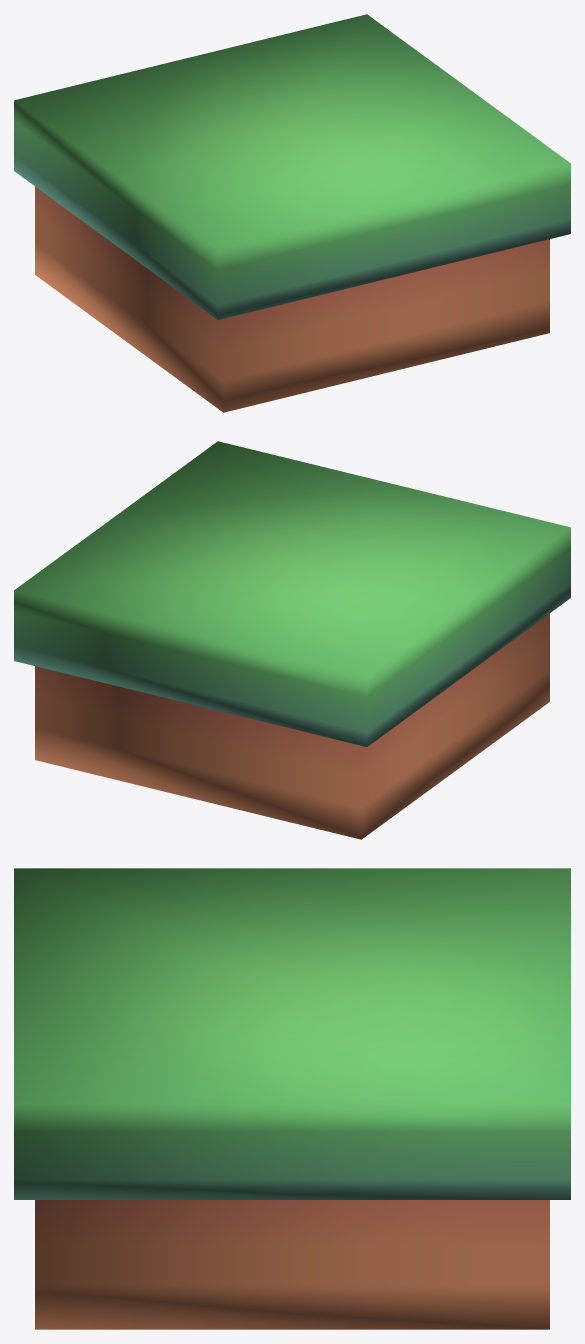
Rendered from trees.glb.
3 renders of one model, top to bottom at view 1: azimuth 30°, elevation 25°; view 2: azimuth 150°, elevation 25°; view 3: azimuth 270°, elevation 25°, orthographic. The views are drawn at different scales.
Parts seen in each view (by area): view 1: PlatformBigLow; view 2: PlatformBigLow; view 3: PlatformBigLow.
Part boxes in pixels (x1,y1,x2,y2): PlatformBigLow: (14,14,570,412); PlatformBigLow: (14,441,570,839); PlatformBigLow: (14,868,570,1329).
Bounding box in the file's own units: 4 × 1.86 × 4.
1 material, 1 textured.
